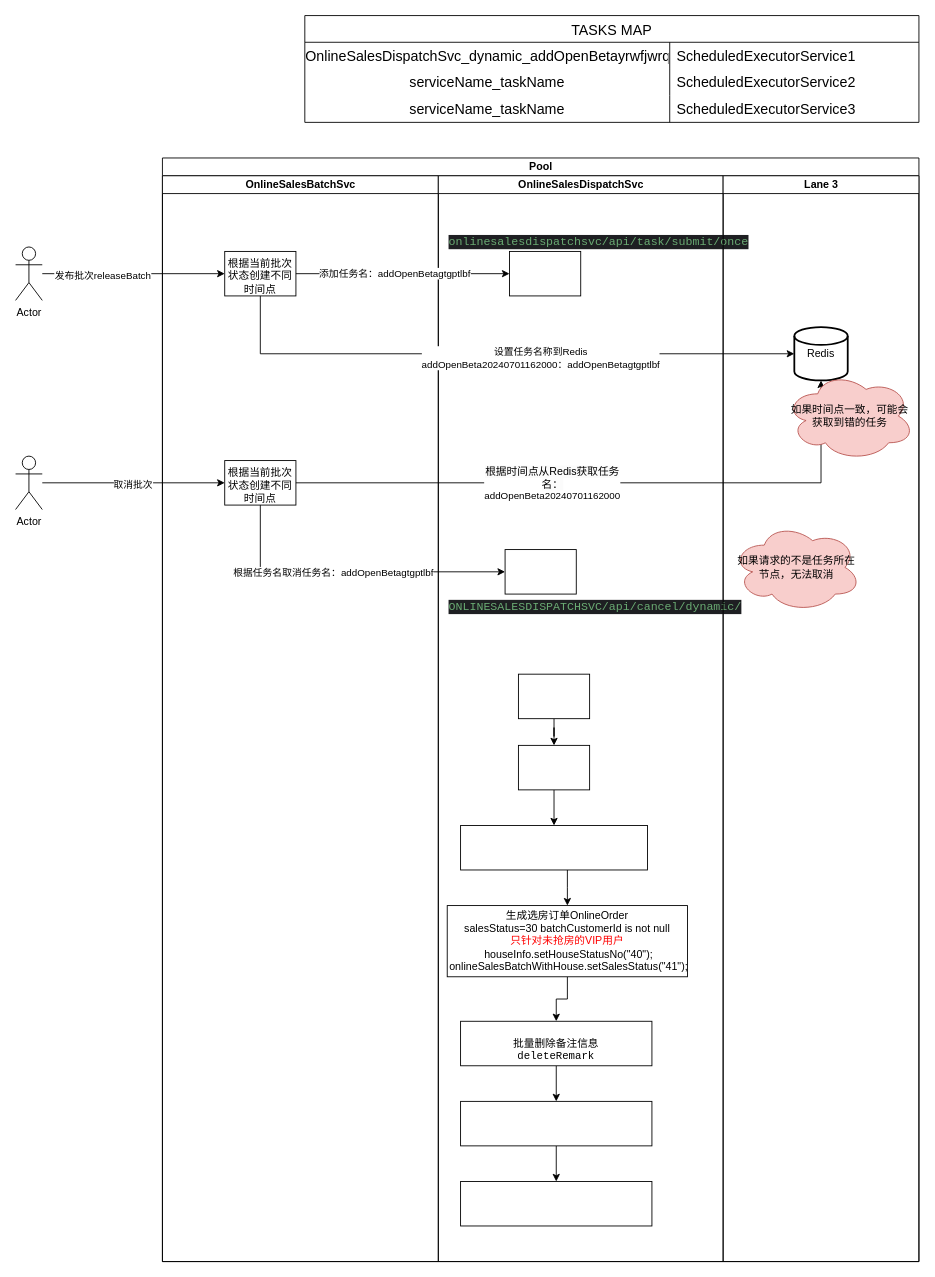
The diagram is 935 pixels wide and 1277 high, and some of its shapes have lost their labels. The shapes that lost their labels are listed below. From the top down, each one's centre as x and y in pixels, then its label:
At point 545,273: "根据当前时间算出延时多久执行（JVM）".
At point 540,571: "取消执行".
At point 554,696: "根据 batchId获取批次详情".
At point 554,767: "对比四个开始，结束时间".
At point 553,847: "设置开盘状态 更新定时任务日志 DispatchLog（bug）".
At point 556,1123: "批量下架房源 undercarriage".
At point 556,1203: "发送认购成功短信 （查前面创建的OnlineOrder）".
